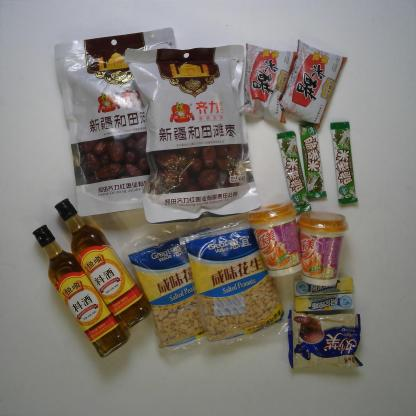Candy: (292, 290, 360, 315), (289, 275, 356, 297)
Chocolate: (273, 130, 311, 211), (328, 120, 360, 204), (295, 121, 327, 202)
Dessert: (283, 309, 369, 375)
Dried Food: (54, 26, 204, 220), (122, 43, 264, 225)
Dried Fruit: (174, 207, 298, 344), (122, 219, 240, 353)
Instant Drink: (244, 200, 304, 279), (294, 210, 351, 287)
Seasoner: (29, 222, 130, 360), (54, 196, 152, 334), (278, 40, 349, 128), (238, 41, 295, 127)
